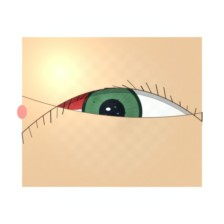hemorrhage_spot: (39, 69, 110, 126)
